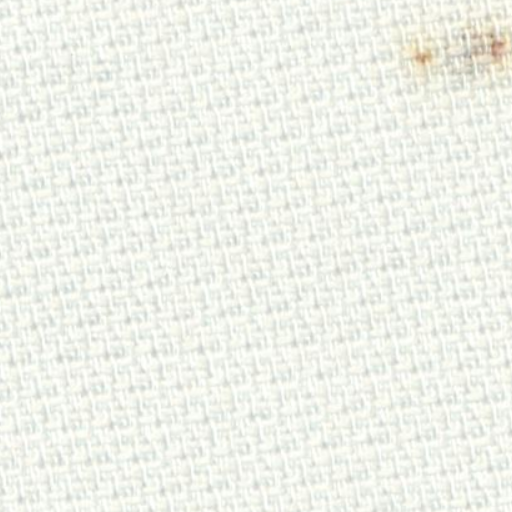WuZi: (397, 2, 507, 109)
